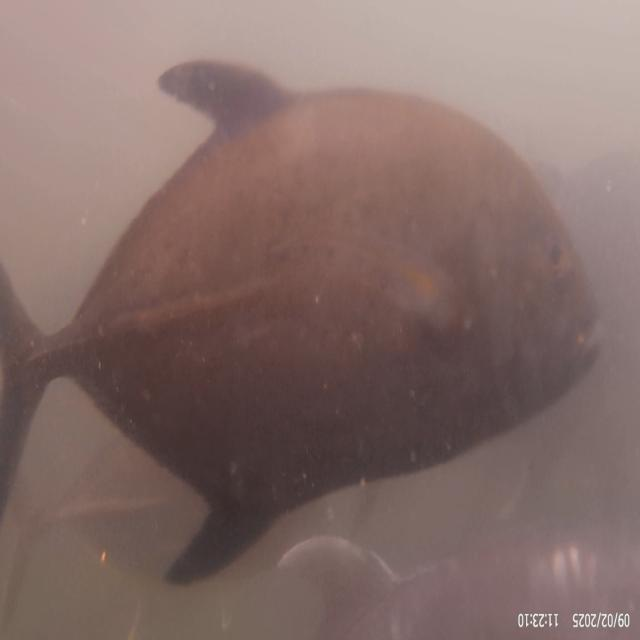ikan: (53, 38, 620, 564)
